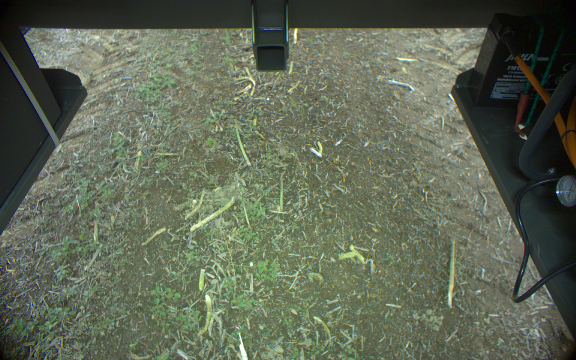aspa: (191, 198, 237, 232), (443, 238, 461, 308), (233, 119, 252, 166), (202, 295, 217, 335), (273, 170, 287, 212), (195, 265, 208, 294)
